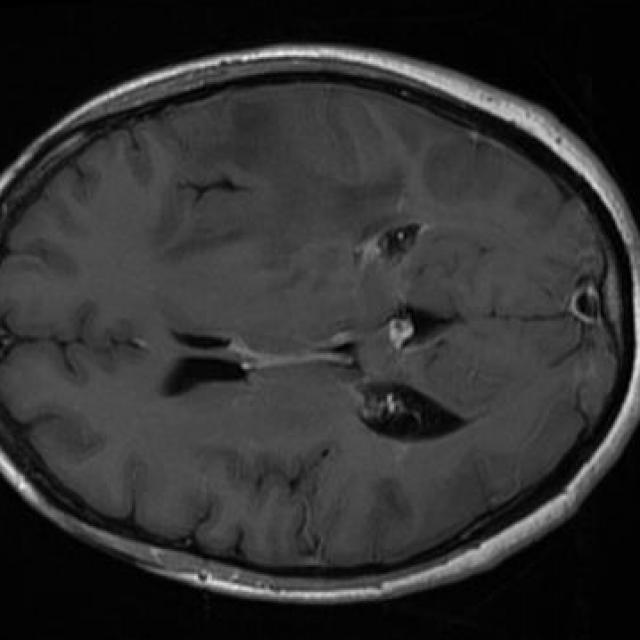glioma: (159, 103, 401, 269)
